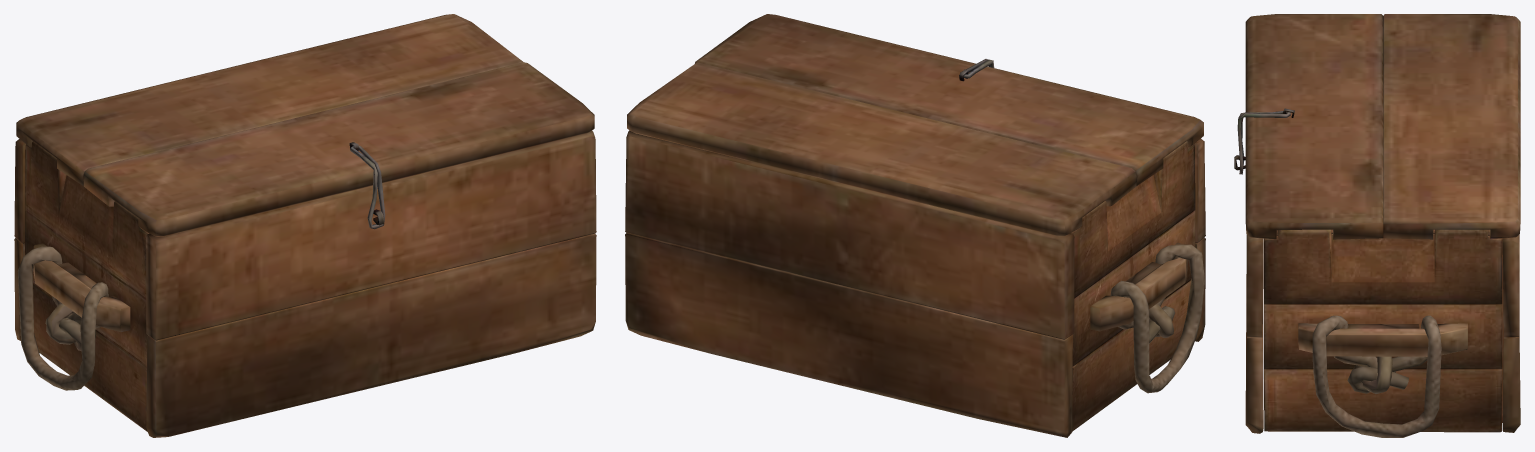
File: crate_wood.glb
3 views of the same model, side by side, from view 1: azimuth 30°, elevation 25°; view 2: azimuth 150°, elevation 25°; view 3: azimuth 270°, elevation 25° (orthographic). The views are drawn at different scales.
Parts seen in each view (by area): view 1: crate_wood; view 2: crate_wood; view 3: crate_wood.
Boxes of the visible parts, x1,y1,x2,y2 form: crate_wood: (14,14,596,437); crate_wood: (625,14,1205,437); crate_wood: (1234,14,1520,437).
Bounding box in the file's own units: 0.8245 × 0.3471 × 0.407.
Materials: 1 (1 with a texture image).
